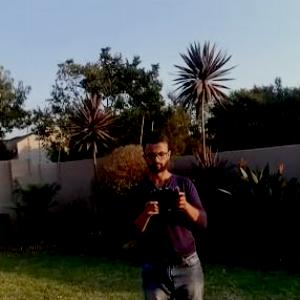follow: (123, 123, 218, 299)
